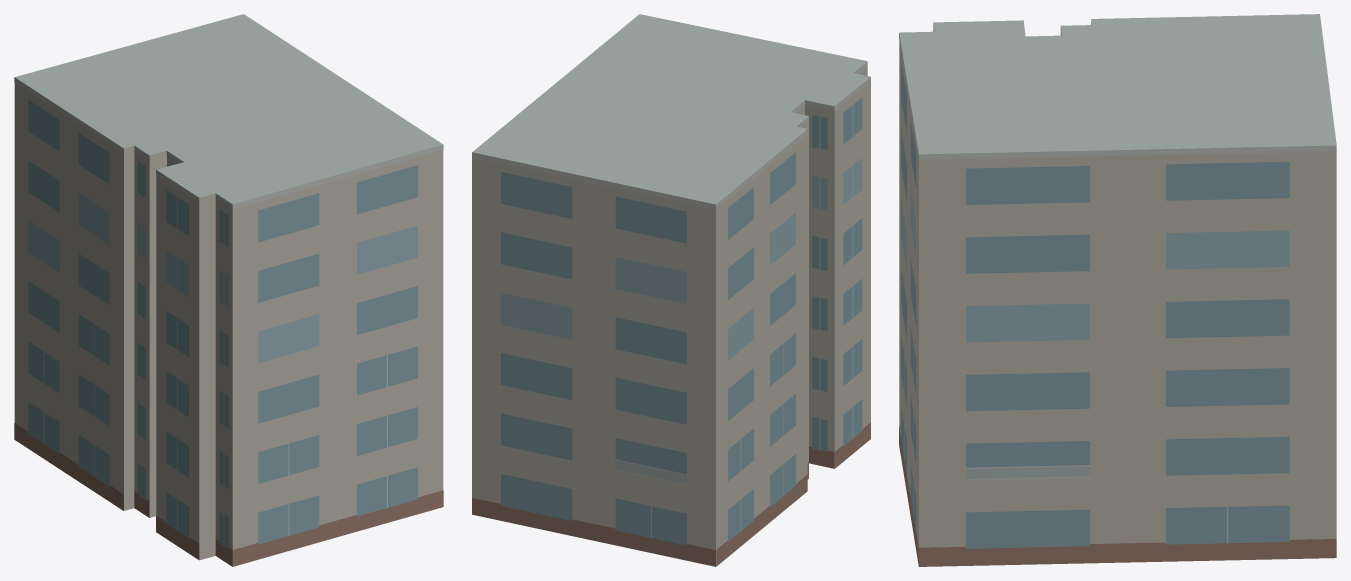
Rendered from survey-upis-32737608.glb.
3 views of the same model, side by side, from view 1: azimuth 30°, elevation 25°; view 2: azimuth 150°, elevation 25°; view 3: azimuth 270°, elevation 25° (orthographic). The views are drawn at different scales.
Parts seen in each view (by area): view 1: survey-upis-32737608.tmp; view 2: survey-upis-32737608.tmp; view 3: survey-upis-32737608.tmp.
Part boxes in pixels (bbox=[...]): survey-upis-32737608.tmp: bbox=[14, 14, 443, 566]; survey-upis-32737608.tmp: bbox=[472, 14, 870, 566]; survey-upis-32737608.tmp: bbox=[899, 14, 1336, 566].
Size of the model in its own units: 12.7 by 17.4 by 16.74.
